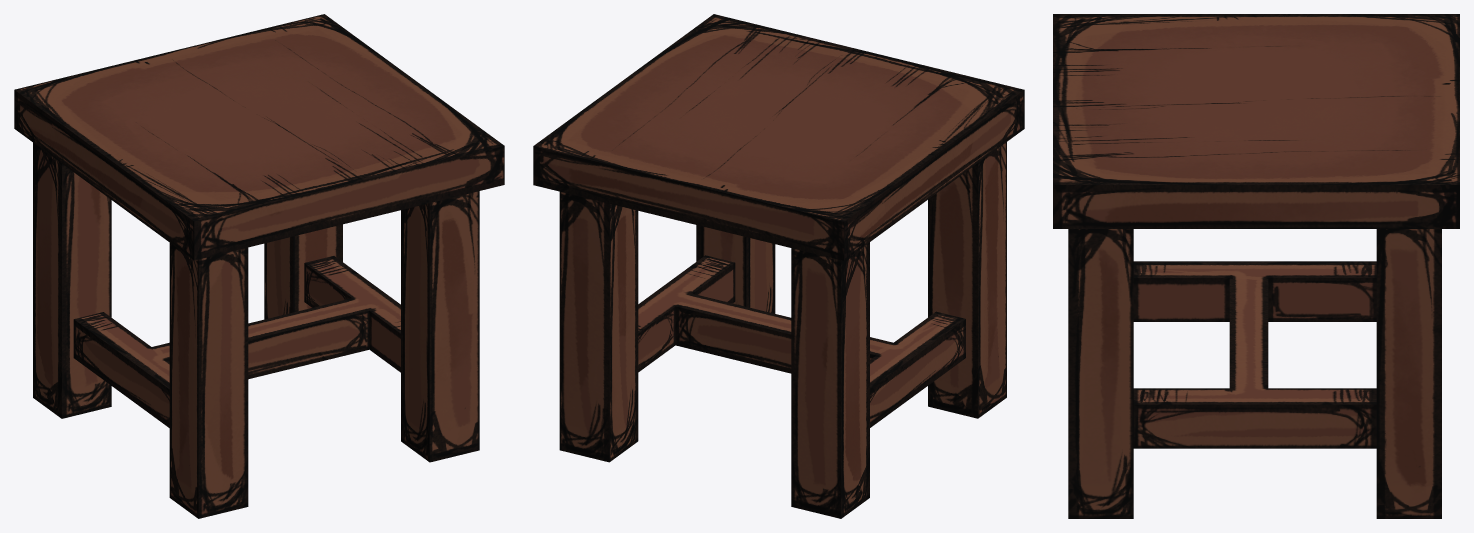
The model's file is taburet_final.fbx.
3 views of the same model, side by side, from view 1: azimuth 30°, elevation 25°; view 2: azimuth 150°, elevation 25°; view 3: azimuth 270°, elevation 25° (orthographic). The views are drawn at different scales.
Visible parts, largest first — view 1: taburet.001; view 2: taburet.001; view 3: taburet.001.
Boxes of the visible parts, box(x1,y1,x2,y2) form: taburet.001: box(14, 14, 504, 518); taburet.001: box(533, 14, 1024, 518); taburet.001: box(1053, 14, 1459, 518).
Bounding box in the file's own units: 0.83 × 0.7792 × 0.8347.
Materials: 1 (1 with a texture image).
